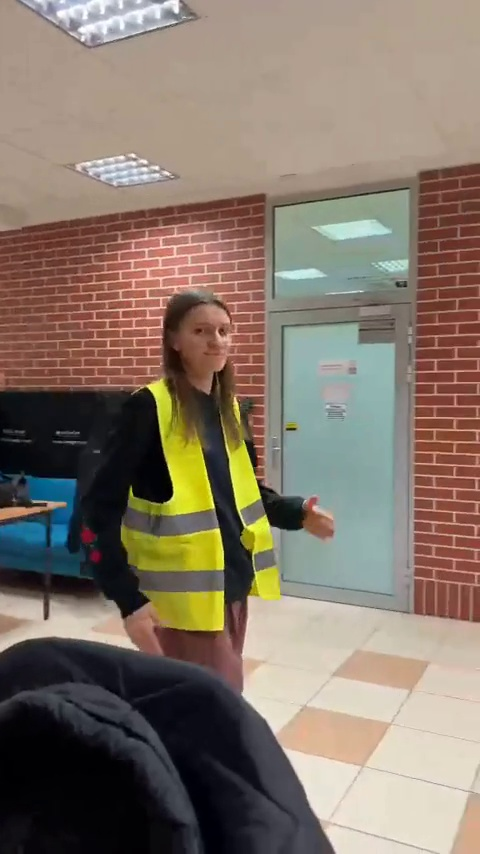vest: (80, 289, 331, 680)
